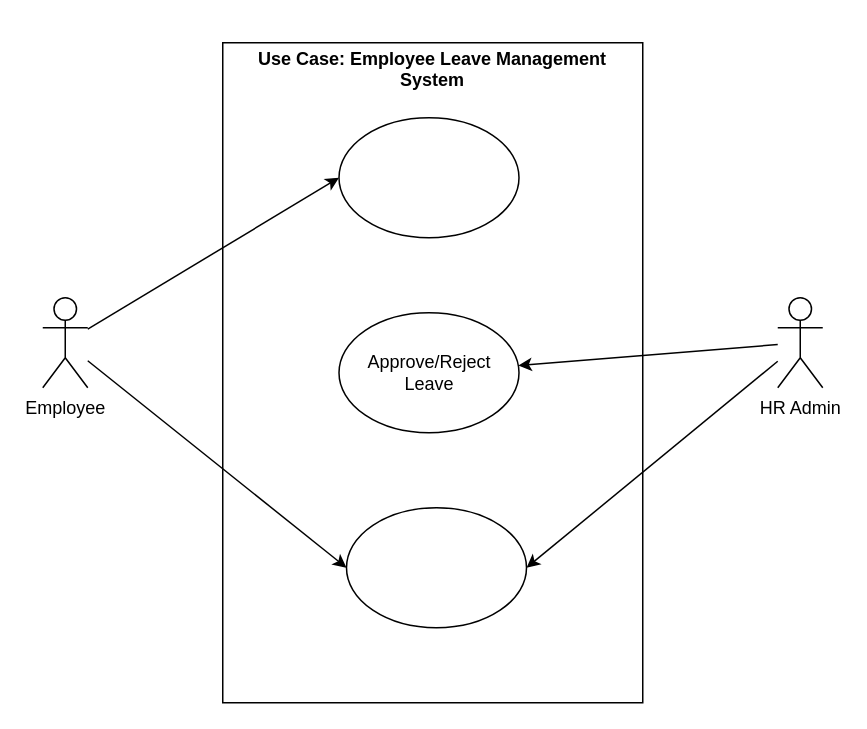
This 867x729 diagram has some shape labels left out. Here are the shapes that lost their labels. From the top down, the centre of each, then its label:
(428,177): Request Leave
(435,567): Veiw Leave Balance
